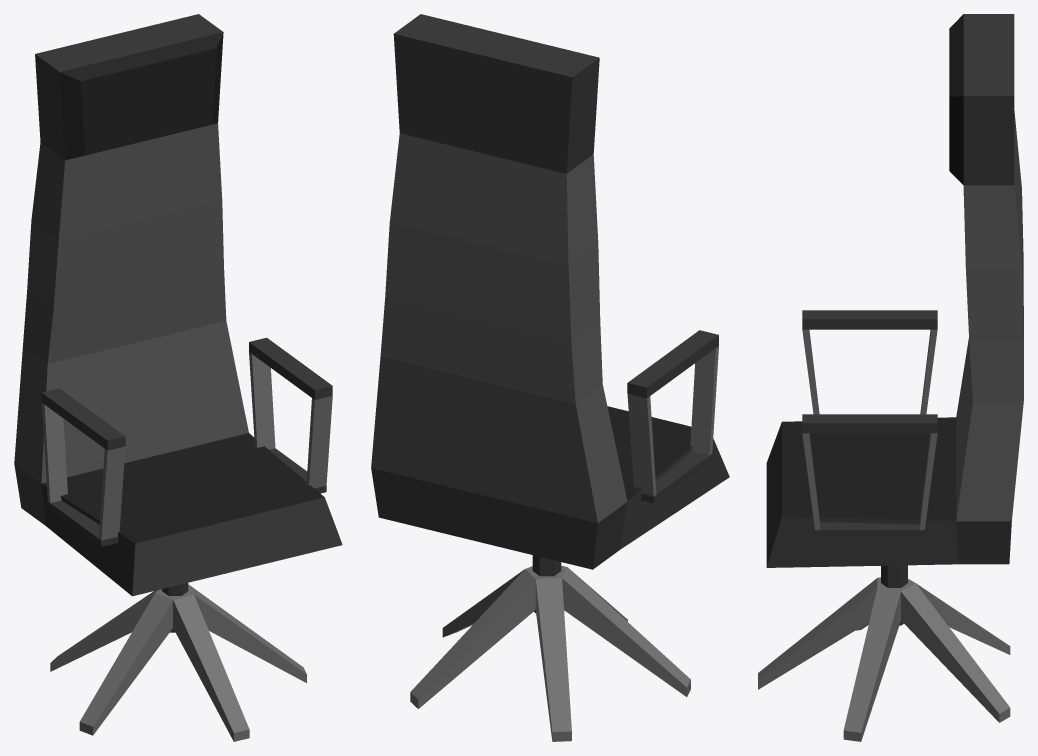
File: obj_householdpropschallenge_03_c_0edcc9.glb
3 renders of one model, left to right at view 1: azimuth 30°, elevation 25°; view 2: azimuth 150°, elevation 25°; view 3: azimuth 270°, elevation 25°, orthographic. The views are drawn at different scales.
Parts seen in each view (by area): view 1: obj_householdpropschallenge_03_c_0edcc9; view 2: obj_householdpropschallenge_03_c_0edcc9; view 3: obj_householdpropschallenge_03_c_0edcc9.
Part boxes in pixels (box(x1,y1,x2,y2)): obj_householdpropschallenge_03_c_0edcc9: box(14, 14, 342, 741); obj_householdpropschallenge_03_c_0edcc9: box(371, 14, 729, 741); obj_householdpropschallenge_03_c_0edcc9: box(758, 14, 1023, 741).
Bounding box in the file's own units: 0.3259 × 0.85 × 0.3244.
1 material, 1 textured.
